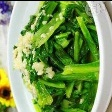youmaicai: (11, 0, 102, 112)
